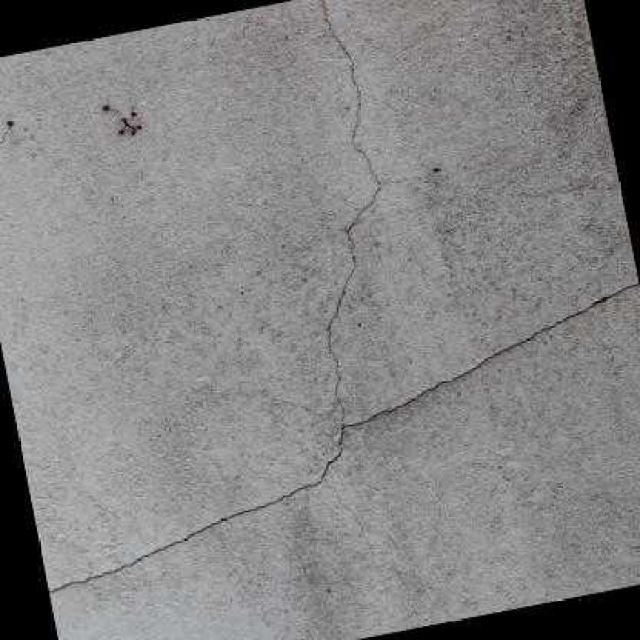D00: (47, 0, 639, 593)
